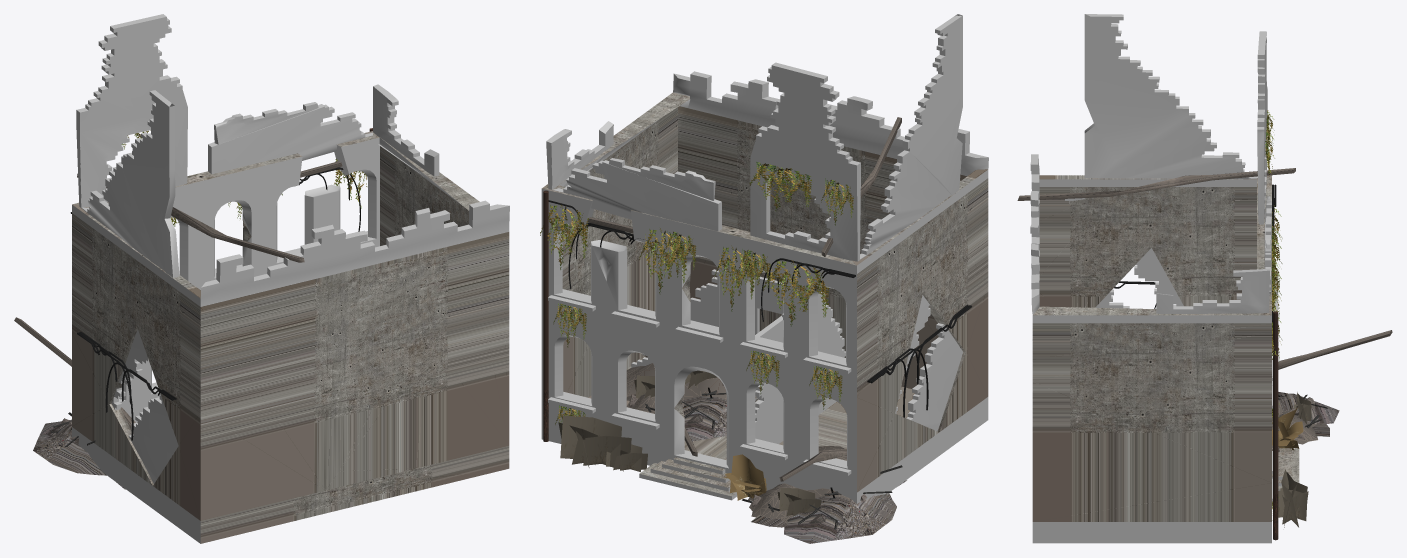
Rendered from house red2 LOD0.fbx.
The picture shows the model from 3 angles, left to right: view 1: azimuth 30°, elevation 25°; view 2: azimuth 150°, elevation 25°; view 3: azimuth 270°, elevation 25°; orthographic projection. The views are drawn at different scales.
Parts seen in each view (by area): view 1: polymsh70; view 2: polymsh70; view 3: polymsh70.
Boxes of the visible parts, x1=… form: polymsh70: x1=14, y1=14, x2=509, y2=543; polymsh70: x1=540, y1=14, x2=988, y2=543; polymsh70: x1=1017, y1=14, x2=1392, y2=543.
Size of the model in its own units: 9.85 by 11.86 by 10.19.
